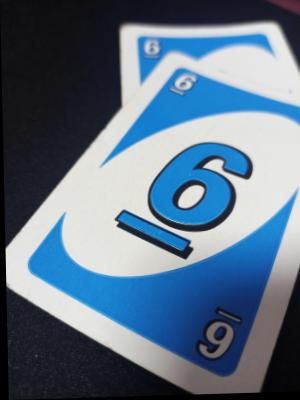blue: (128, 43, 249, 375)
num_6: (194, 304, 245, 364), (164, 71, 198, 100), (139, 37, 164, 64)
